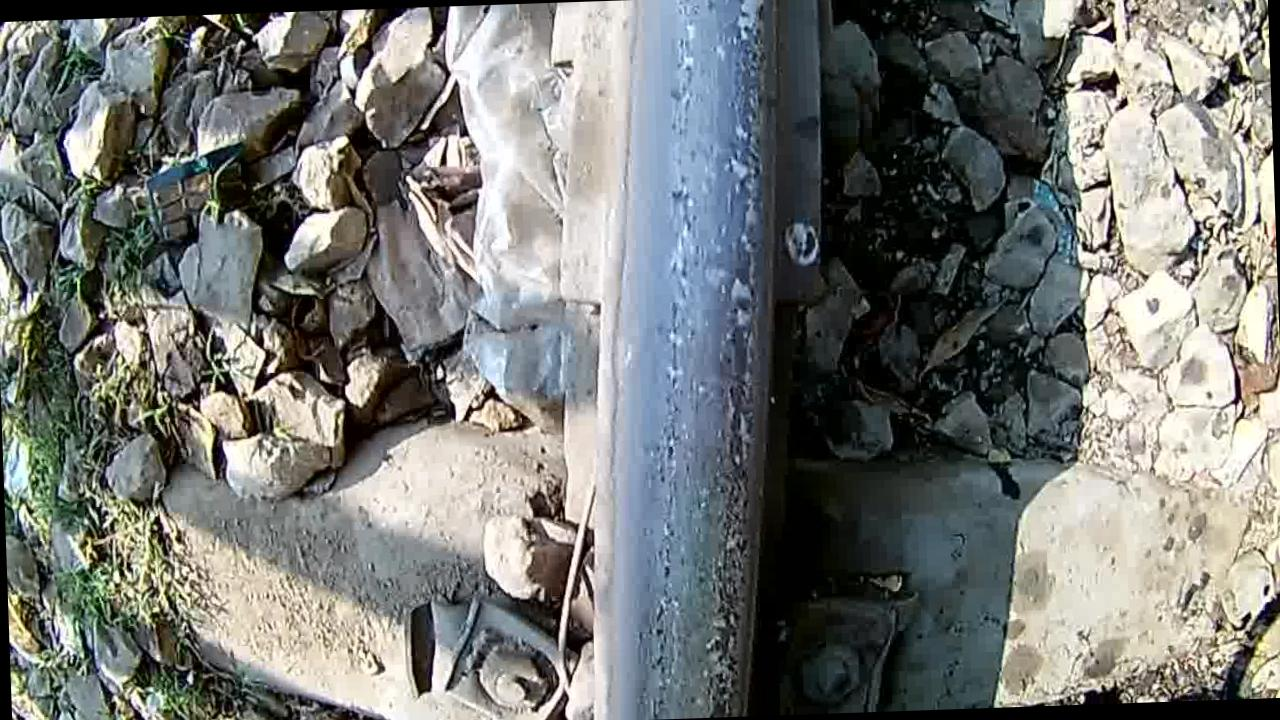clip_missing: (596, 0, 799, 719)
